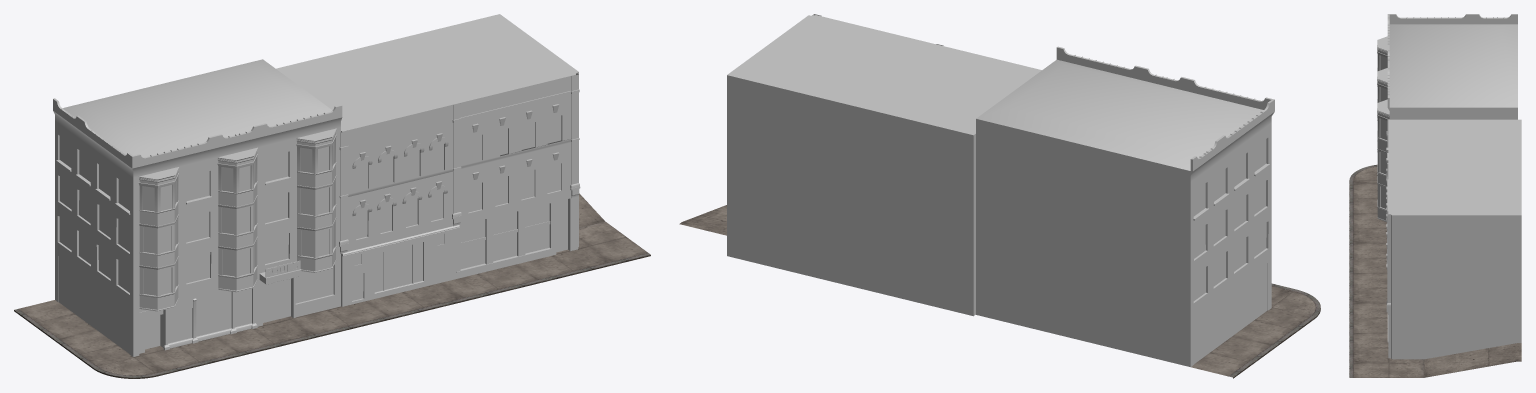
File: Buildings_1.fbx
3 views of the same model, side by side, from view 1: azimuth 30°, elevation 25°; view 2: azimuth 150°, elevation 25°; view 3: azimuth 270°, elevation 25° (orthographic). The views are drawn at different scales.
Parts seen in each view (by area): view 1: Building black, Building, Sidewalks; view 2: Building, Bricks, Building black, Sidewalks; view 3: Building, Building black, Sidewalks, Bricks.
Part boxes in pixels (x1,y1,x2,y2): Building black: (53, 59, 342, 356); Building: (276, 14, 580, 306); Sidewalks: (14, 193, 650, 378); Building: (727, 14, 1041, 316); Bricks: (976, 119, 1190, 366); Building black: (976, 46, 1274, 366); Sidewalks: (679, 205, 1320, 378); Building: (1386, 119, 1521, 359); Building black: (1377, 14, 1517, 221); Sidewalks: (1349, 164, 1521, 377); Bricks: (1388, 107, 1517, 119).
Size of the model in its own units: 19789 by 7186 by 6726.
